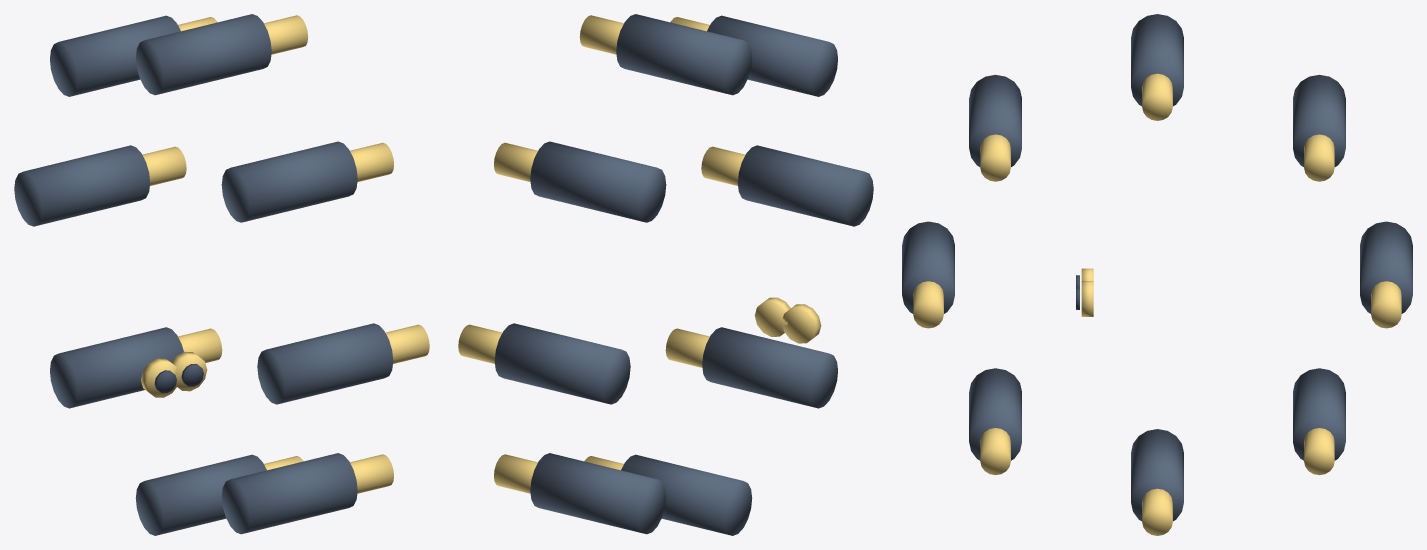
The model's file is 59_L85_CompliantContactDampingActuator.glb.
3 views of the same model, side by side, from view 1: azimuth 30°, elevation 25°; view 2: azimuth 150°, elevation 25°; view 3: azimuth 270°, elevation 25° (orthographic). The views are drawn at different scales.
Visible parts, largest first — view 1: L85_CompliantContactDampingAc_Part_0000, L85_CompliantContactDampingAc_Part_0001, L85_CompliantContactDampingAc_Part_0002, L85_CompliantContactDampingAc_Part_0004; view 2: L85_CompliantContactDampingAc_Part_0000, L85_CompliantContactDampingAc_Part_0001, L85_CompliantContactDampingAc_Part_0002, L85_CompliantContactDampingAc_Part_0004; view 3: L85_CompliantContactDampingAc_Part_0000, L85_CompliantContactDampingAc_Part_0001.
Part boxes in pixels (x1,y1,x2,y2): L85_CompliantContactDampingAc_Part_0000: [14, 14, 393, 535]; L85_CompliantContactDampingAc_Part_0001: [142, 15, 429, 493]; L85_CompliantContactDampingAc_Part_0002: [141, 358, 180, 397]; L85_CompliantContactDampingAc_Part_0004: [171, 351, 207, 391]; L85_CompliantContactDampingAc_Part_0000: [494, 14, 873, 535]; L85_CompliantContactDampingAc_Part_0001: [458, 15, 745, 493]; L85_CompliantContactDampingAc_Part_0002: [782, 304, 821, 343]; L85_CompliantContactDampingAc_Part_0004: [754, 297, 790, 336]; L85_CompliantContactDampingAc_Part_0000: [902, 14, 1412, 521]; L85_CompliantContactDampingAc_Part_0001: [913, 73, 1401, 535].
Bounding box in the file's own units: 0.7525 × 1.83 × 1.83.
